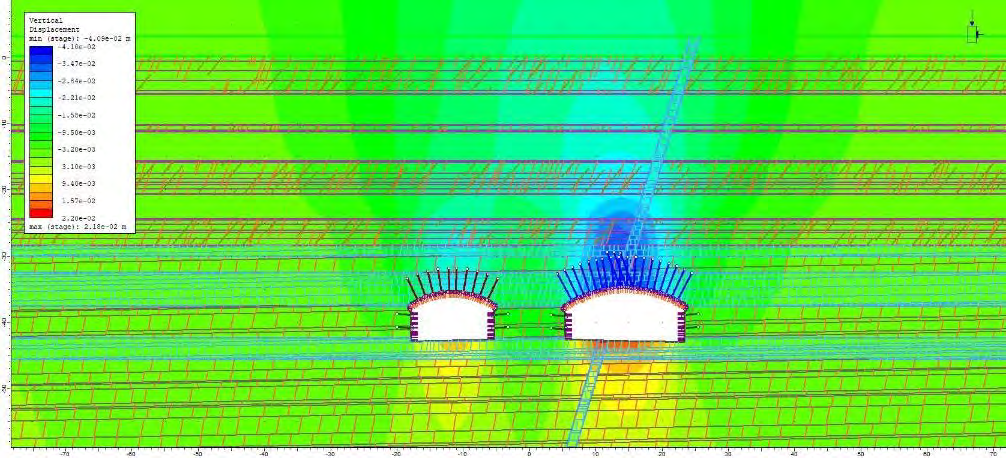crown: (608, 272, 642, 285), (438, 279, 464, 291)
label: (24, 12, 134, 234)
tunnel-opening: (567, 285, 685, 343), (410, 292, 493, 342)
